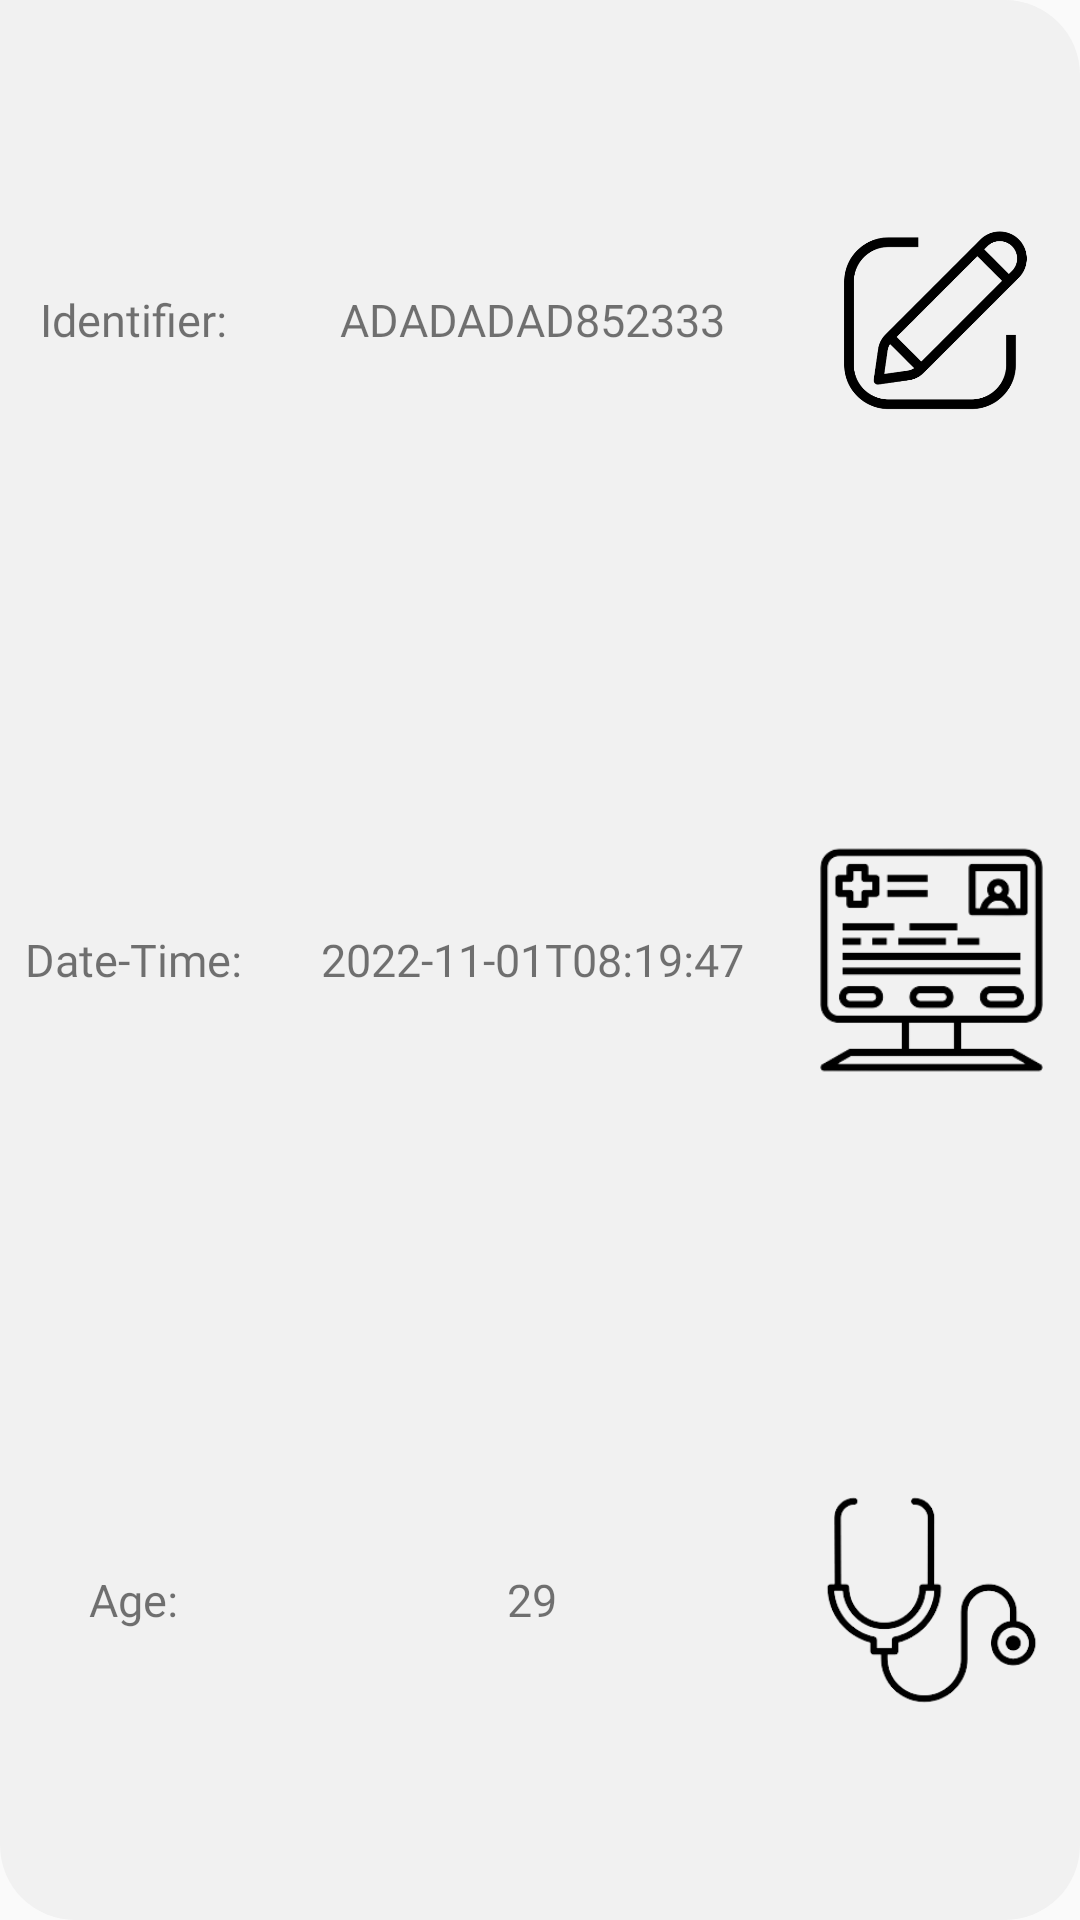

Where icons sit on this 1080 x 1920 app screen, as (left=x1, top=y1, right=x2, bottom=y2):
edit: (left=844, top=231, right=1027, bottom=409)
sethoscope: (left=827, top=1497, right=1036, bottom=1703)
visit summary: (left=820, top=848, right=1043, bottom=1072)
